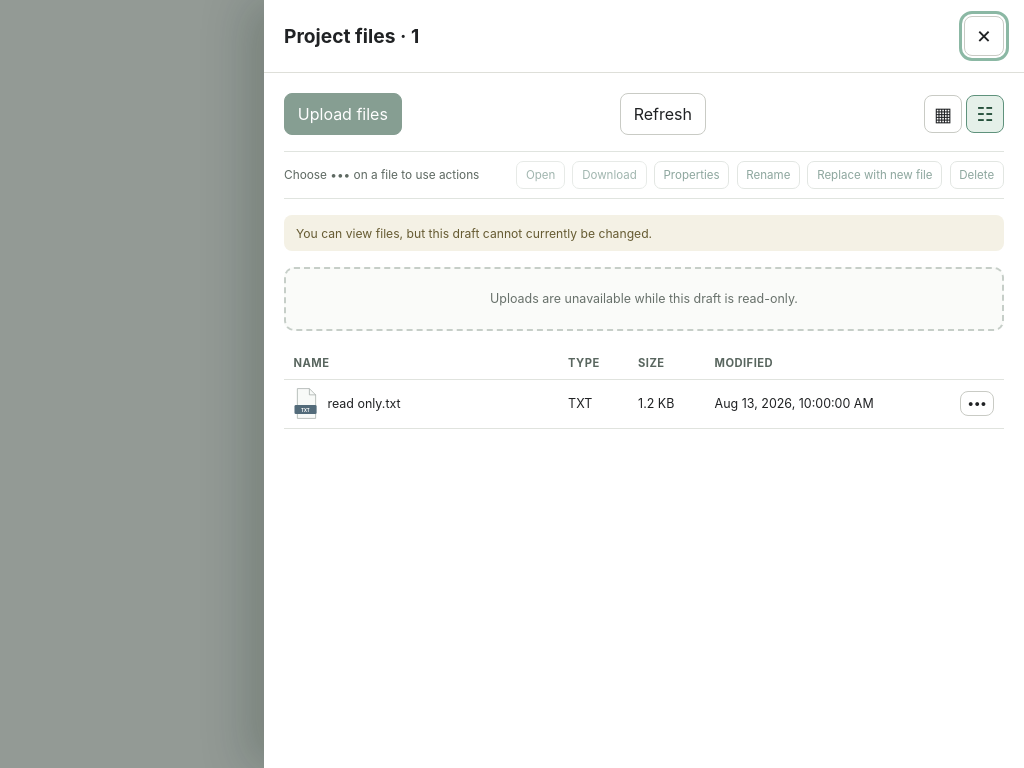
Test: ProjectFilesPanel › keeps open, download and properties available but disables mutations in read-only mode
Click the button "•••".
click(977, 404)  # box [960, 391, 994, 416]
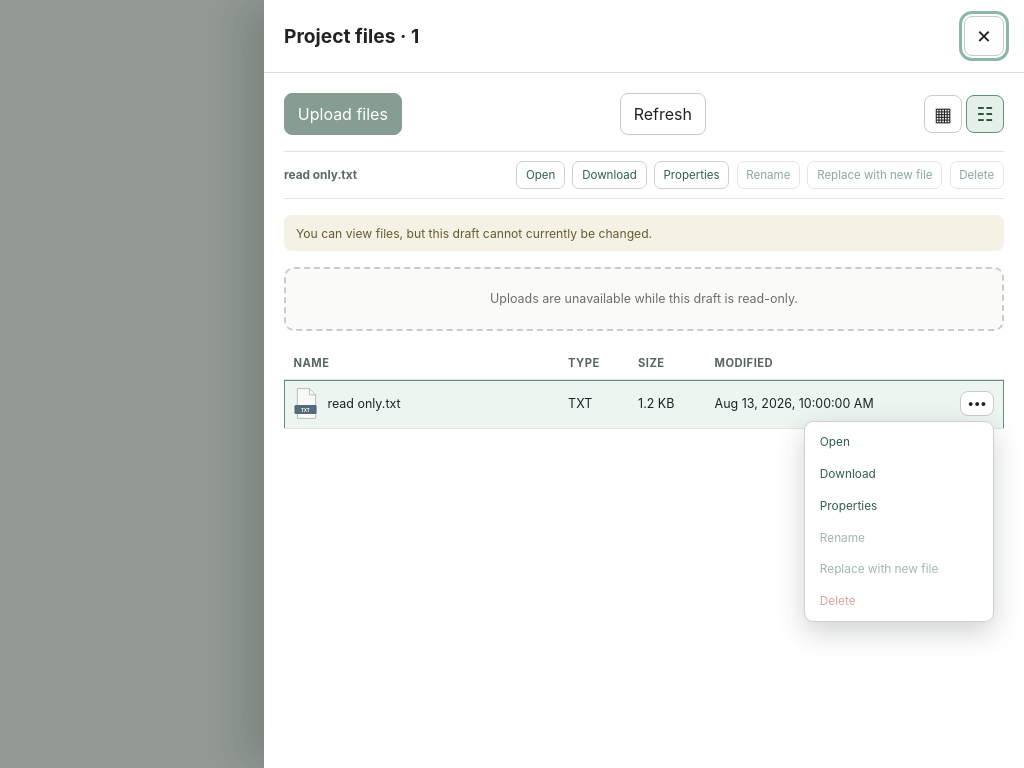
Check: the 1st link "Download" is shown, box [572, 161, 647, 189]
Check: the 1st button "Properties" is enabled, box [654, 161, 729, 189]
